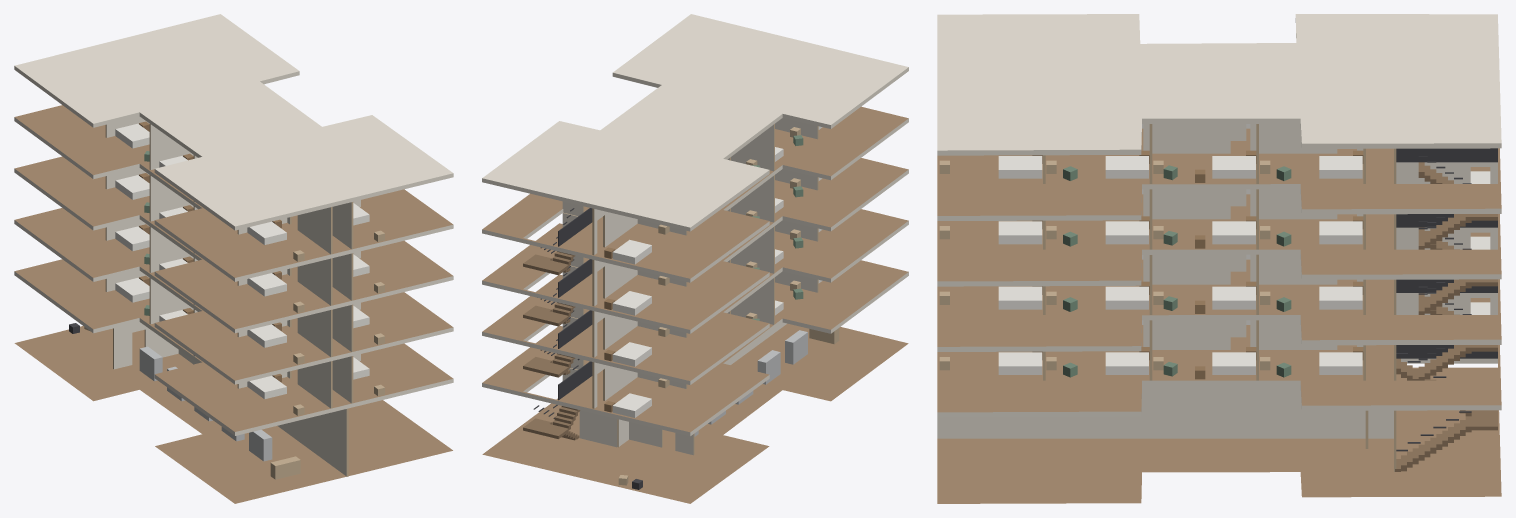
Rendered from interior.glb.
The picture shows the model from 3 angles, left to right: view 1: azimuth 30°, elevation 25°; view 2: azimuth 150°, elevation 25°; view 3: azimuth 270°, elevation 25°; orthographic projection. The views are drawn at different scales.
Visible parts, largest first — view 1: slabs, partitions, coarse-s0, coarse-s1, coarse-s3, coarse-s2, coarse-s4; view 2: slabs, partitions, stair, coarse-s0, coarse-s3, coarse-s2, coarse-s4, coarse-s1; view 3: slabs, partitions, stair, coarse-s2, coarse-s3, coarse-s1, coarse-s4.
Part boxes in pixels (bbox=[...]): slabs: bbox=[14, 14, 453, 503]; partitions: bbox=[105, 116, 360, 476]; coarse-s0: bbox=[69, 323, 300, 479]; coarse-s1: bbox=[115, 275, 384, 415]; coarse-s3: bbox=[115, 173, 384, 312]; coarse-s2: bbox=[115, 224, 384, 364]; coarse-s4: bbox=[115, 121, 384, 261]; slabs: bbox=[482, 14, 908, 503]; partitions: bbox=[562, 118, 818, 455]; stair: bbox=[523, 208, 592, 440]; coarse-s0: bbox=[618, 328, 839, 489]; coarse-s3: bbox=[604, 177, 822, 315]; coarse-s2: bbox=[604, 228, 822, 366]; coarse-s4: bbox=[604, 126, 822, 264]; coarse-s1: bbox=[604, 280, 822, 417]; slabs: bbox=[937, 14, 1501, 503]; partitions: bbox=[937, 123, 1497, 471]; stair: bbox=[1395, 148, 1497, 471]; coarse-s2: bbox=[939, 236, 1490, 313]; coarse-s3: bbox=[939, 171, 1490, 248]; coarse-s1: bbox=[939, 302, 1490, 379]; coarse-s4: bbox=[939, 124, 1363, 182].
Size of the model in its own units: 14.81 by 17.9 by 25.86.
